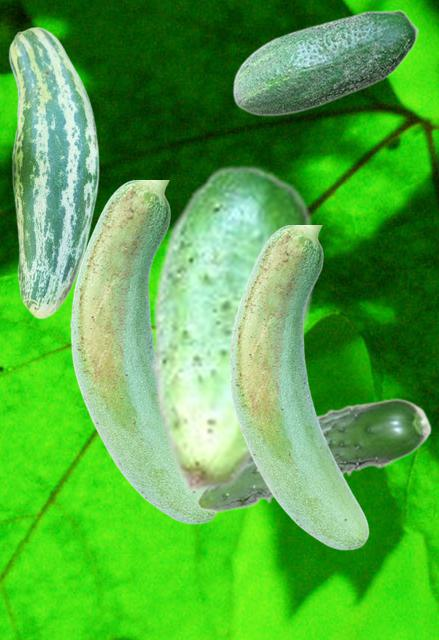cucumber: (151, 163, 313, 493), (70, 180, 217, 523), (229, 225, 368, 549), (196, 398, 431, 511), (8, 26, 98, 318), (232, 9, 418, 115)
